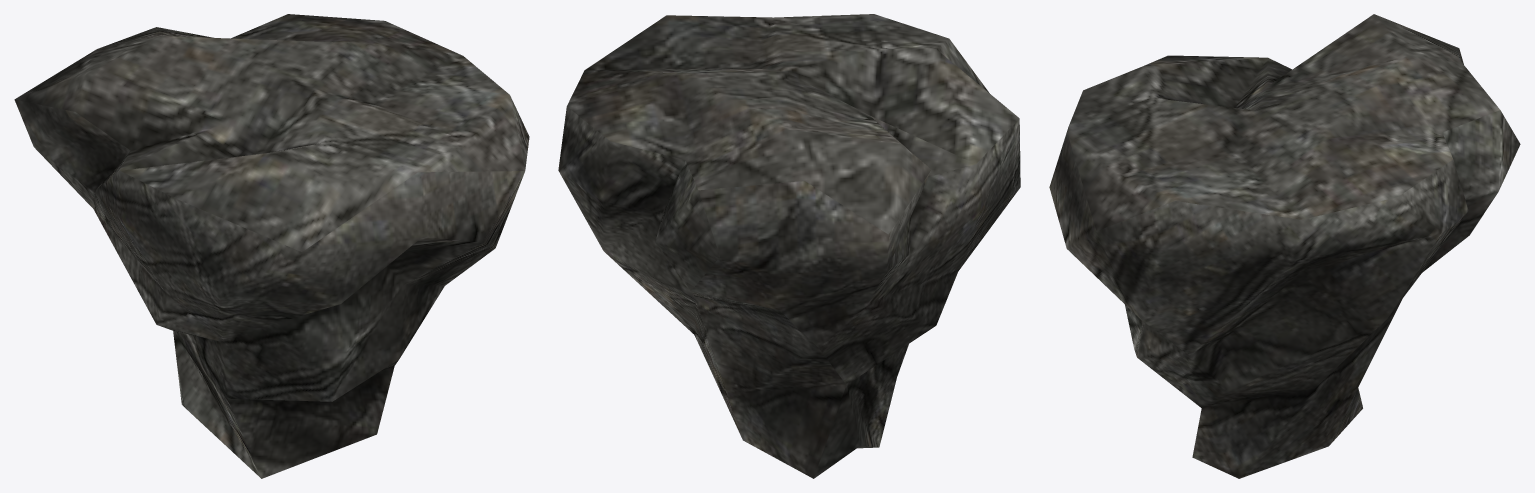
File: Stal5.fbx
3 renders of one model, left to right at view 1: azimuth 30°, elevation 25°; view 2: azimuth 150°, elevation 25°; view 3: azimuth 270°, elevation 25°, orthographic. The views are drawn at different scales.
Visible parts, largest first — view 1: Stal5; view 2: Stal5; view 3: Stal5.
Boxes of the visible parts, x1=… form: Stal5: x1=14, y1=14, x2=529, y2=478; Stal5: x1=558, y1=14, x2=1020, y2=478; Stal5: x1=1049, y1=14, x2=1520, y2=478.
Size of the model in its own units: 4.33 by 4.19 by 4.73.
